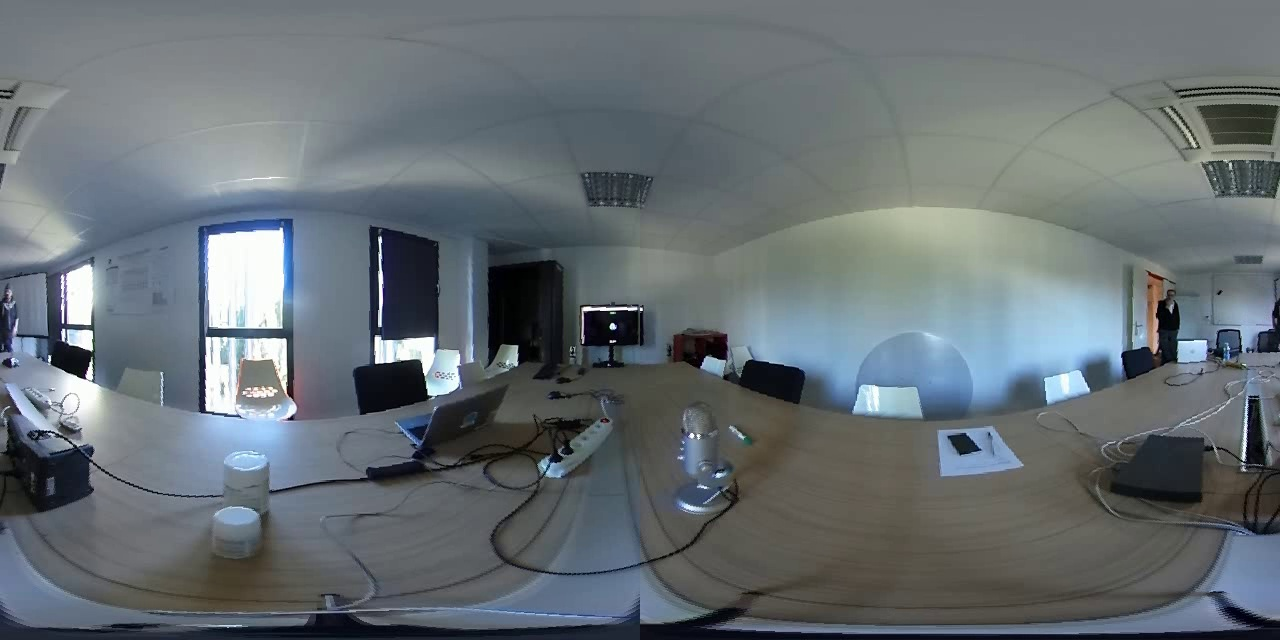person: (1150, 279, 1188, 355), (1, 277, 25, 352)
